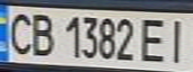1: (57, 12, 84, 59)
2: (115, 15, 139, 63)
3: (78, 12, 100, 60)
8: (97, 14, 118, 61)
B: (24, 10, 57, 57)
C: (3, 8, 36, 57)
E: (136, 15, 172, 64)
I: (160, 15, 193, 64)
